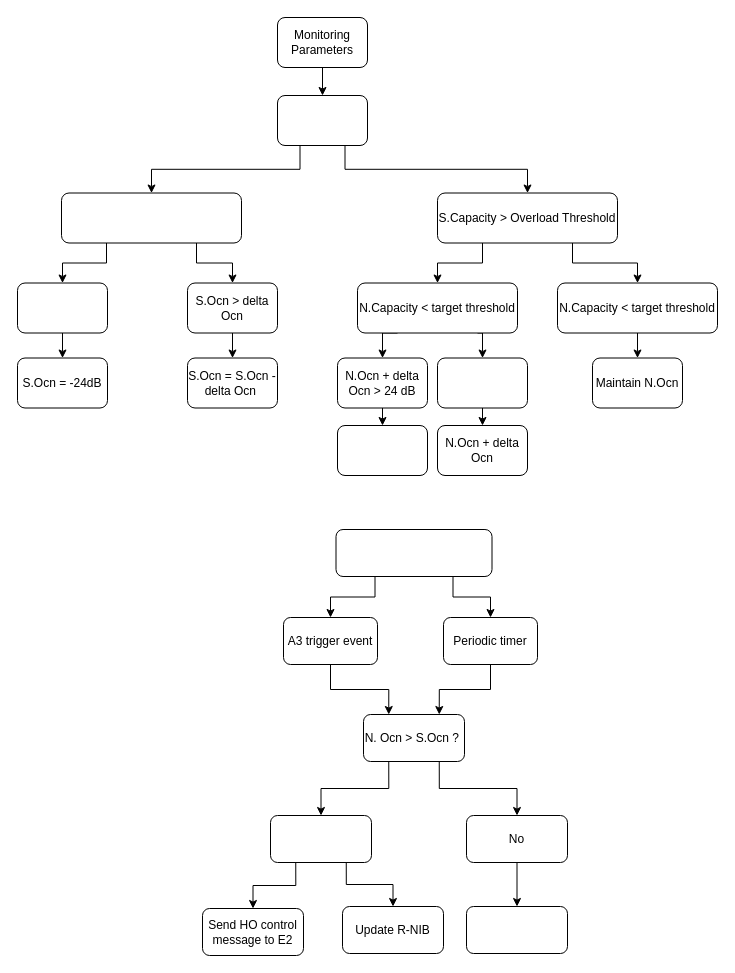
Some shapes in this 735 by 973 pixel diagram are drawn without their labels. The shapes that lost their labels are listed below. From the top down, each one's box as (x1, y1, x2, y2) in pixels, then its label:
(276, 94, 368, 146): Load balancing check
(60, 192, 242, 243): S.Capacity < Target Threshold
(16, 282, 108, 333): S.Ocn < delta Ocn
(436, 357, 528, 408): delta Ocn > Ocn
(336, 424, 428, 476): N.Ocn = -24dB
(335, 528, 492, 576): MHO subscribes A3 events
(270, 814, 372, 862): Yes
(466, 906, 568, 954): Do nothing
